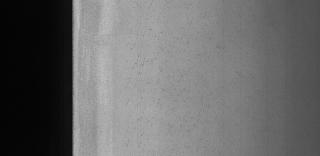silk spot: (126, 36, 172, 120)
